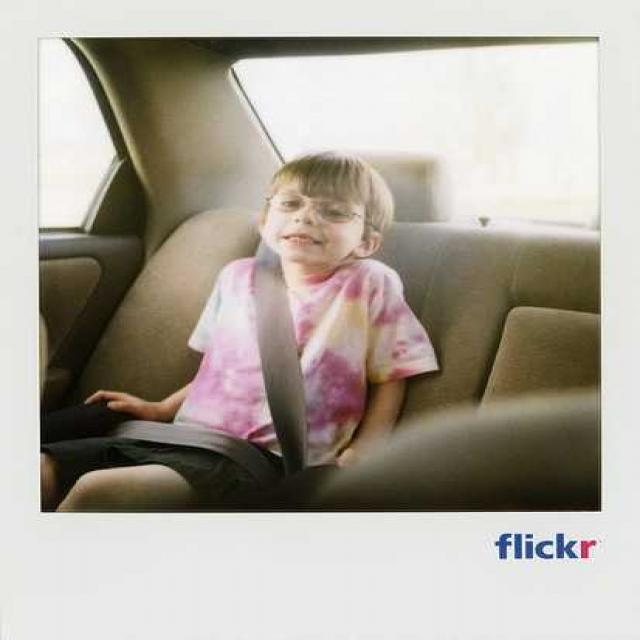seatbelt: (228, 217, 322, 478)
